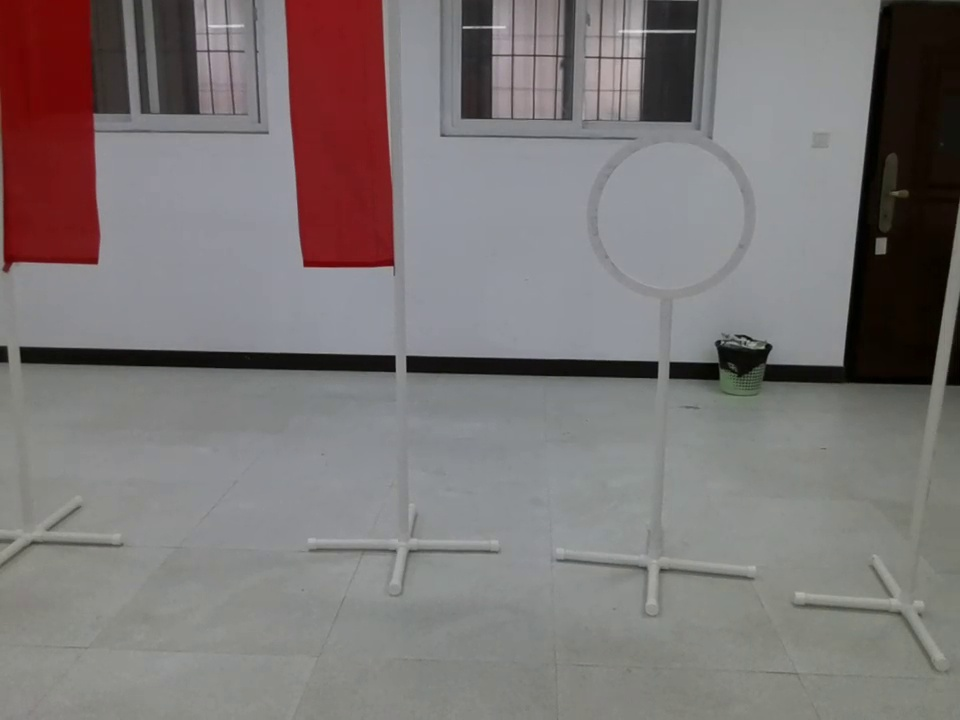qi: (282, 1, 408, 315), (1, 1, 111, 314)
quan: (582, 128, 760, 323)
